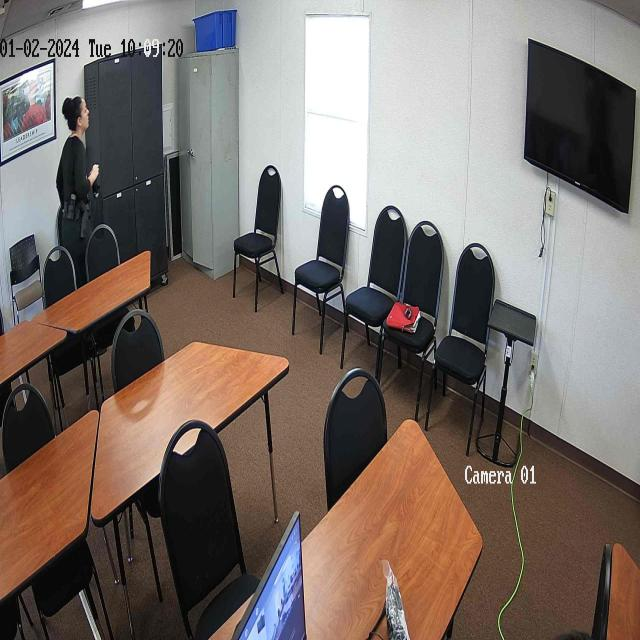weapon: (79, 199, 89, 241)
